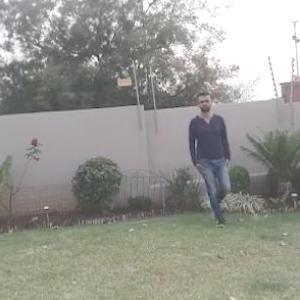follow: (196, 85, 236, 230)
